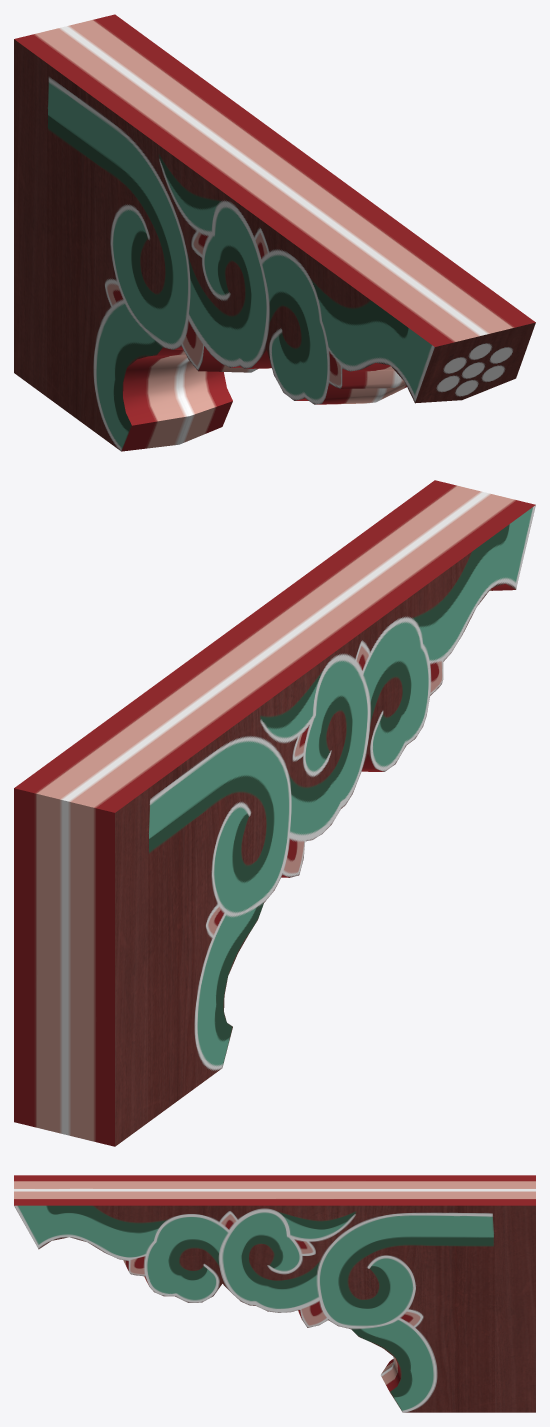
Rendered from SM_Boaji02A.fbx.
The picture shows the model from 3 angles, top to bottom: view 1: azimuth 30°, elevation 25°; view 2: azimuth 150°, elevation 25°; view 3: azimuth 270°, elevation 25°; orthographic projection. The views are drawn at different scales.
Parts seen in each view (by area): view 1: SM_Boaji02A; view 2: SM_Boaji02A; view 3: SM_Boaji02A.
Boxes of the visible parts, box(x1,y1,x2,y2) form: SM_Boaji02A: box(14, 14, 535, 451); SM_Boaji02A: box(14, 480, 535, 1146); SM_Boaji02A: box(14, 1175, 535, 1412).
Bounding box in the file's own units: 9.96 × 71.82 × 31.43.
1 material, 1 textured.
